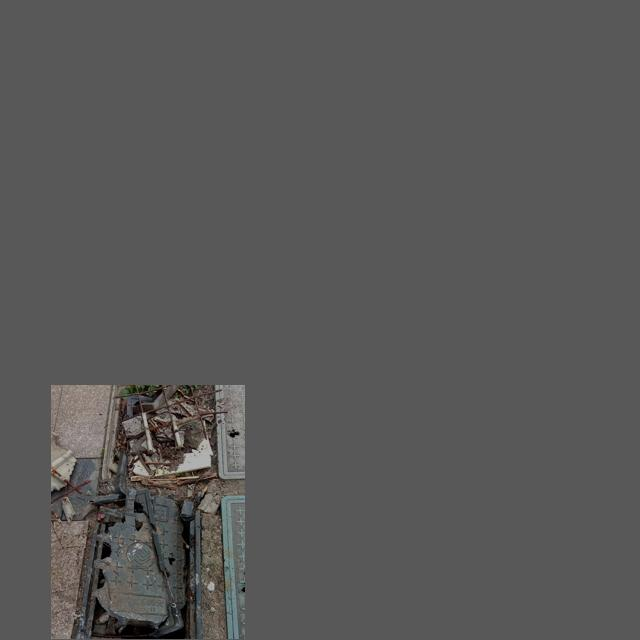broke: (74, 493, 211, 639), (101, 385, 222, 483)
